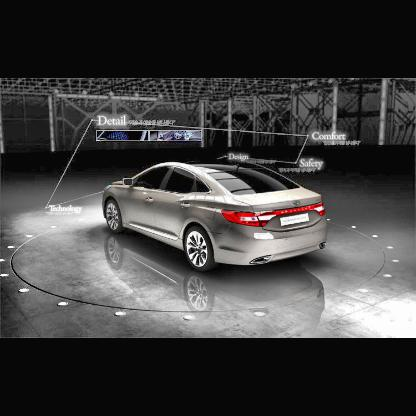Hyundai Azera Sedan 2012: (102, 163, 329, 276)
